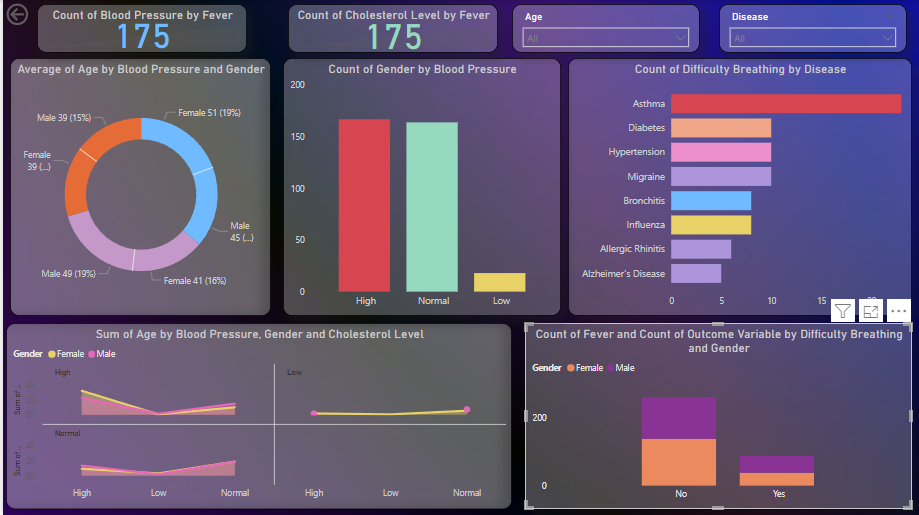

This screenshot's page, from the dashboard's own definition file:
{"tool":"powerbi","page":{"name":"Page 1","canvas":[1280,720],"ordinal":0},"visuals":[{"type":"barChart","fields":{"Category":["Disease_symptom_and_patient_profile_dataset.Disease"],"Y":["CountNonNull(Disease_symptom_and_patient_profile_dataset.Difficulty Breathing)"]},"box":[788.4,80.9,480,360],"z":0},{"type":"donutChart","fields":{"Series":["Disease_symptom_and_patient_profile_dataset.Gender"],"Category":["Disease_symptom_and_patient_profile_dataset.Blood Pressure","Disease_symptom_and_patient_profile_dataset.Fever"],"Y":["Avg(Disease_symptom_and_patient_profile_dataset.Age)"]},"box":[9.8,80.9,364.2,360],"z":1000},{"type":"actionButton","box":[0,0,100,40],"z":2000},{"type":"areaChart","fields":{"Category":["Disease_symptom_and_patient_profile_dataset.Blood Pressure"],"Series":["Disease_symptom_and_patient_profile_dataset.Gender"],"Y":["Sum(Disease_symptom_and_patient_profile_dataset.Age)"],"Rows":["Disease_symptom_and_patient_profile_dataset.Cholesterol Level"]},"box":[4.2,450.7,706,259.5],"z":3000},{"type":"lineStackedColumnComboChart","fields":{"Category":["Disease_symptom_and_patient_profile_dataset.Difficulty Breathing"],"Series":["Disease_symptom_and_patient_profile_dataset.Gender"],"Y":["CountNonNull(Disease_symptom_and_patient_profile_dataset.Fever)"]},"box":[728.4,450.7,540,259.5],"z":4000},{"type":"columnChart","fields":{"Y":["CountNonNull(Disease_symptom_and_patient_profile_dataset.Gender)"],"Category":["Disease_symptom_and_patient_profile_dataset.Blood Pressure"]},"box":[390.7,80.9,387.9,360],"z":5000},{"type":"slicer","fields":{"Values":["Disease_symptom_and_patient_profile_dataset.Disease"]},"box":[999.1,5.6,262.3,68.4],"z":6000},{"type":"kpi","fields":{"Indicator":["CountNonNull(Disease_symptom_and_patient_profile_dataset.Blood Pressure)"],"TrendLine":["Disease_symptom_and_patient_profile_dataset.Fever"]},"box":[47.4,5.6,293,68.4],"z":7000},{"type":"kpi","fields":{"Indicator":["CountNonNull(Disease_symptom_and_patient_profile_dataset.Cholesterol Level)"],"TrendLine":["Disease_symptom_and_patient_profile_dataset.Fever"]},"box":[397.7,5.6,293,68.4],"z":8000},{"type":"slicer","fields":{"Values":["Disease_symptom_and_patient_profile_dataset.Age"]},"box":[710.2,5.6,262.3,68.4],"z":9000}]}

Visuals, with their boxes in screenshot pixels (x1, y1, x2, y2), scaled from the page's 1280x720 canvas onto the 919x515 screenshot:
barChart - Disease_symptom_and_patient_profile_dataset.Disease x CountNonNull(Disease_symptom_and_patient_profile_dataset.Difficulty Breathing): <bbox>566, 58, 911, 315</bbox>
donutChart - Disease_symptom_and_patient_profile_dataset.Gender x Disease_symptom_and_patient_profile_dataset.Blood Pressure: <bbox>7, 58, 269, 315</bbox>
actionButton: <bbox>0, 0, 72, 29</bbox>
areaChart - Disease_symptom_and_patient_profile_dataset.Blood Pressure x Disease_symptom_and_patient_profile_dataset.Gender: <bbox>3, 322, 510, 508</bbox>
lineStackedColumnComboChart - Disease_symptom_and_patient_profile_dataset.Difficulty Breathing x Disease_symptom_and_patient_profile_dataset.Gender: <bbox>523, 322, 911, 508</bbox>
columnChart - CountNonNull(Disease_symptom_and_patient_profile_dataset.Gender) x Disease_symptom_and_patient_profile_dataset.Blood Pressure: <bbox>281, 58, 559, 315</bbox>
slicer - Disease_symptom_and_patient_profile_dataset.Disease: <bbox>717, 4, 906, 53</bbox>
kpi - CountNonNull(Disease_symptom_and_patient_profile_dataset.Blood Pressure) x Disease_symptom_and_patient_profile_dataset.Fever: <bbox>34, 4, 244, 53</bbox>
kpi - CountNonNull(Disease_symptom_and_patient_profile_dataset.Cholesterol Level) x Disease_symptom_and_patient_profile_dataset.Fever: <bbox>286, 4, 496, 53</bbox>
slicer - Disease_symptom_and_patient_profile_dataset.Age: <bbox>510, 4, 698, 53</bbox>
